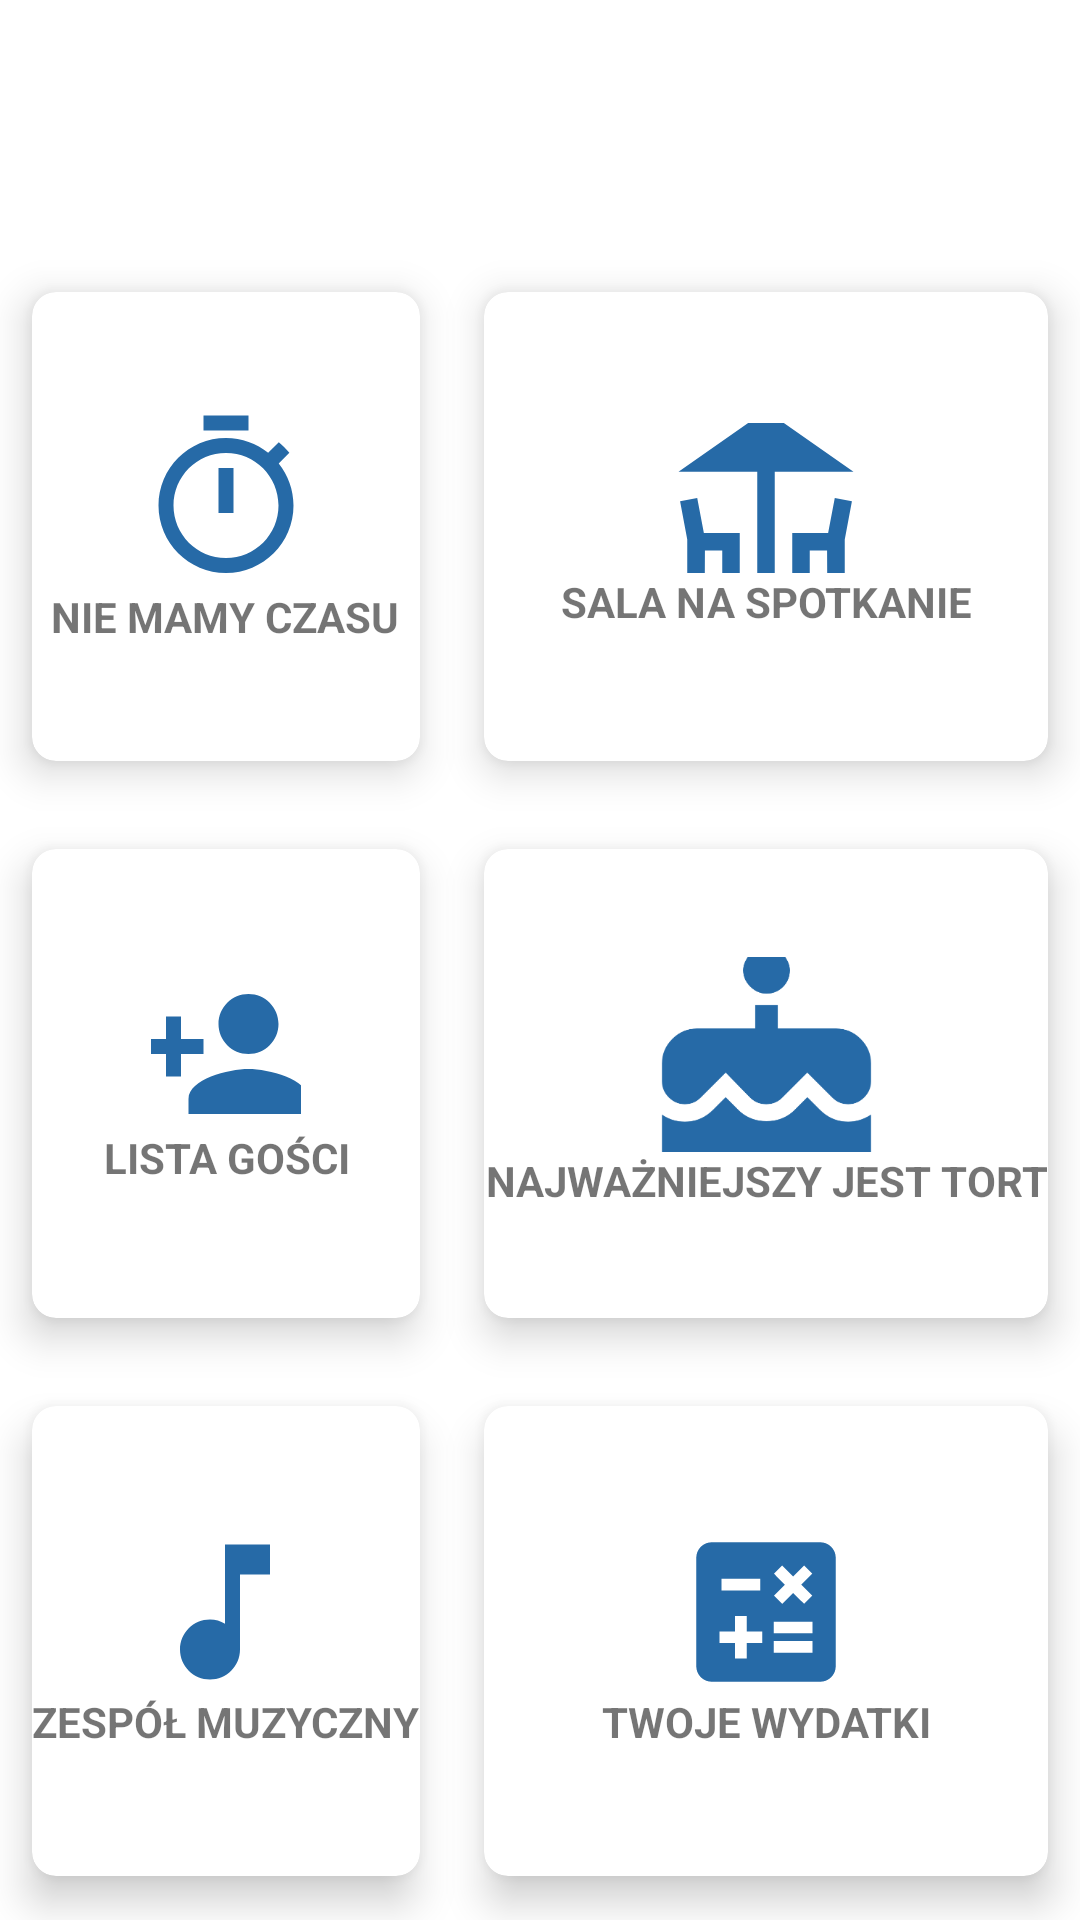

Screen size 1080x1920. Icon name, then its center in pixels as point (x, y):
cake: point (766, 1054)
calculate: point (766, 1612)
deck: point (766, 498)
music note: point (225, 1612)
person add: point (226, 1054)
timer: point (226, 494)
